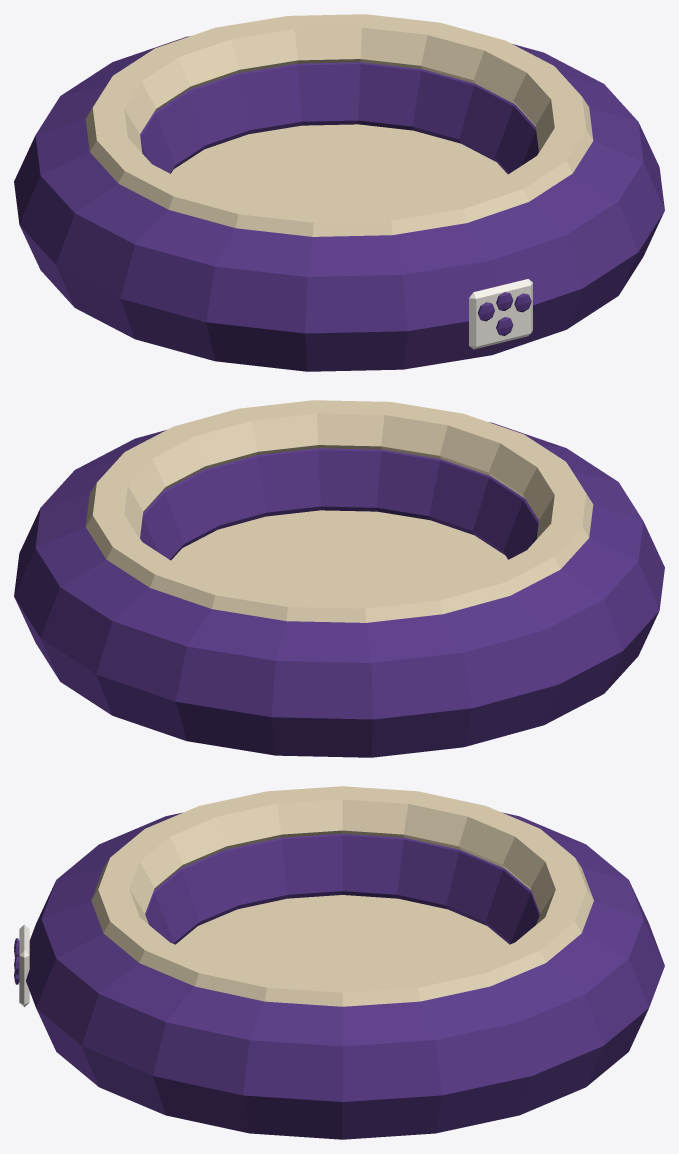
Rendered from cat_bed.glb.
3 views of the same model, one above another, from view 1: azimuth 30°, elevation 25°; view 2: azimuth 150°, elevation 25°; view 3: azimuth 270°, elevation 25° (orthographic).
Visible parts, largest first — view 1: cat_bed; view 2: cat_bed; view 3: cat_bed.
Part boxes in pixels (<box>): cat_bed: <box>14,14,664,371</box>; cat_bed: <box>14,400,664,757</box>; cat_bed: <box>14,786,664,1139</box>.
Bounding box in the file's own units: 0.62 × 0.151 × 0.626.
